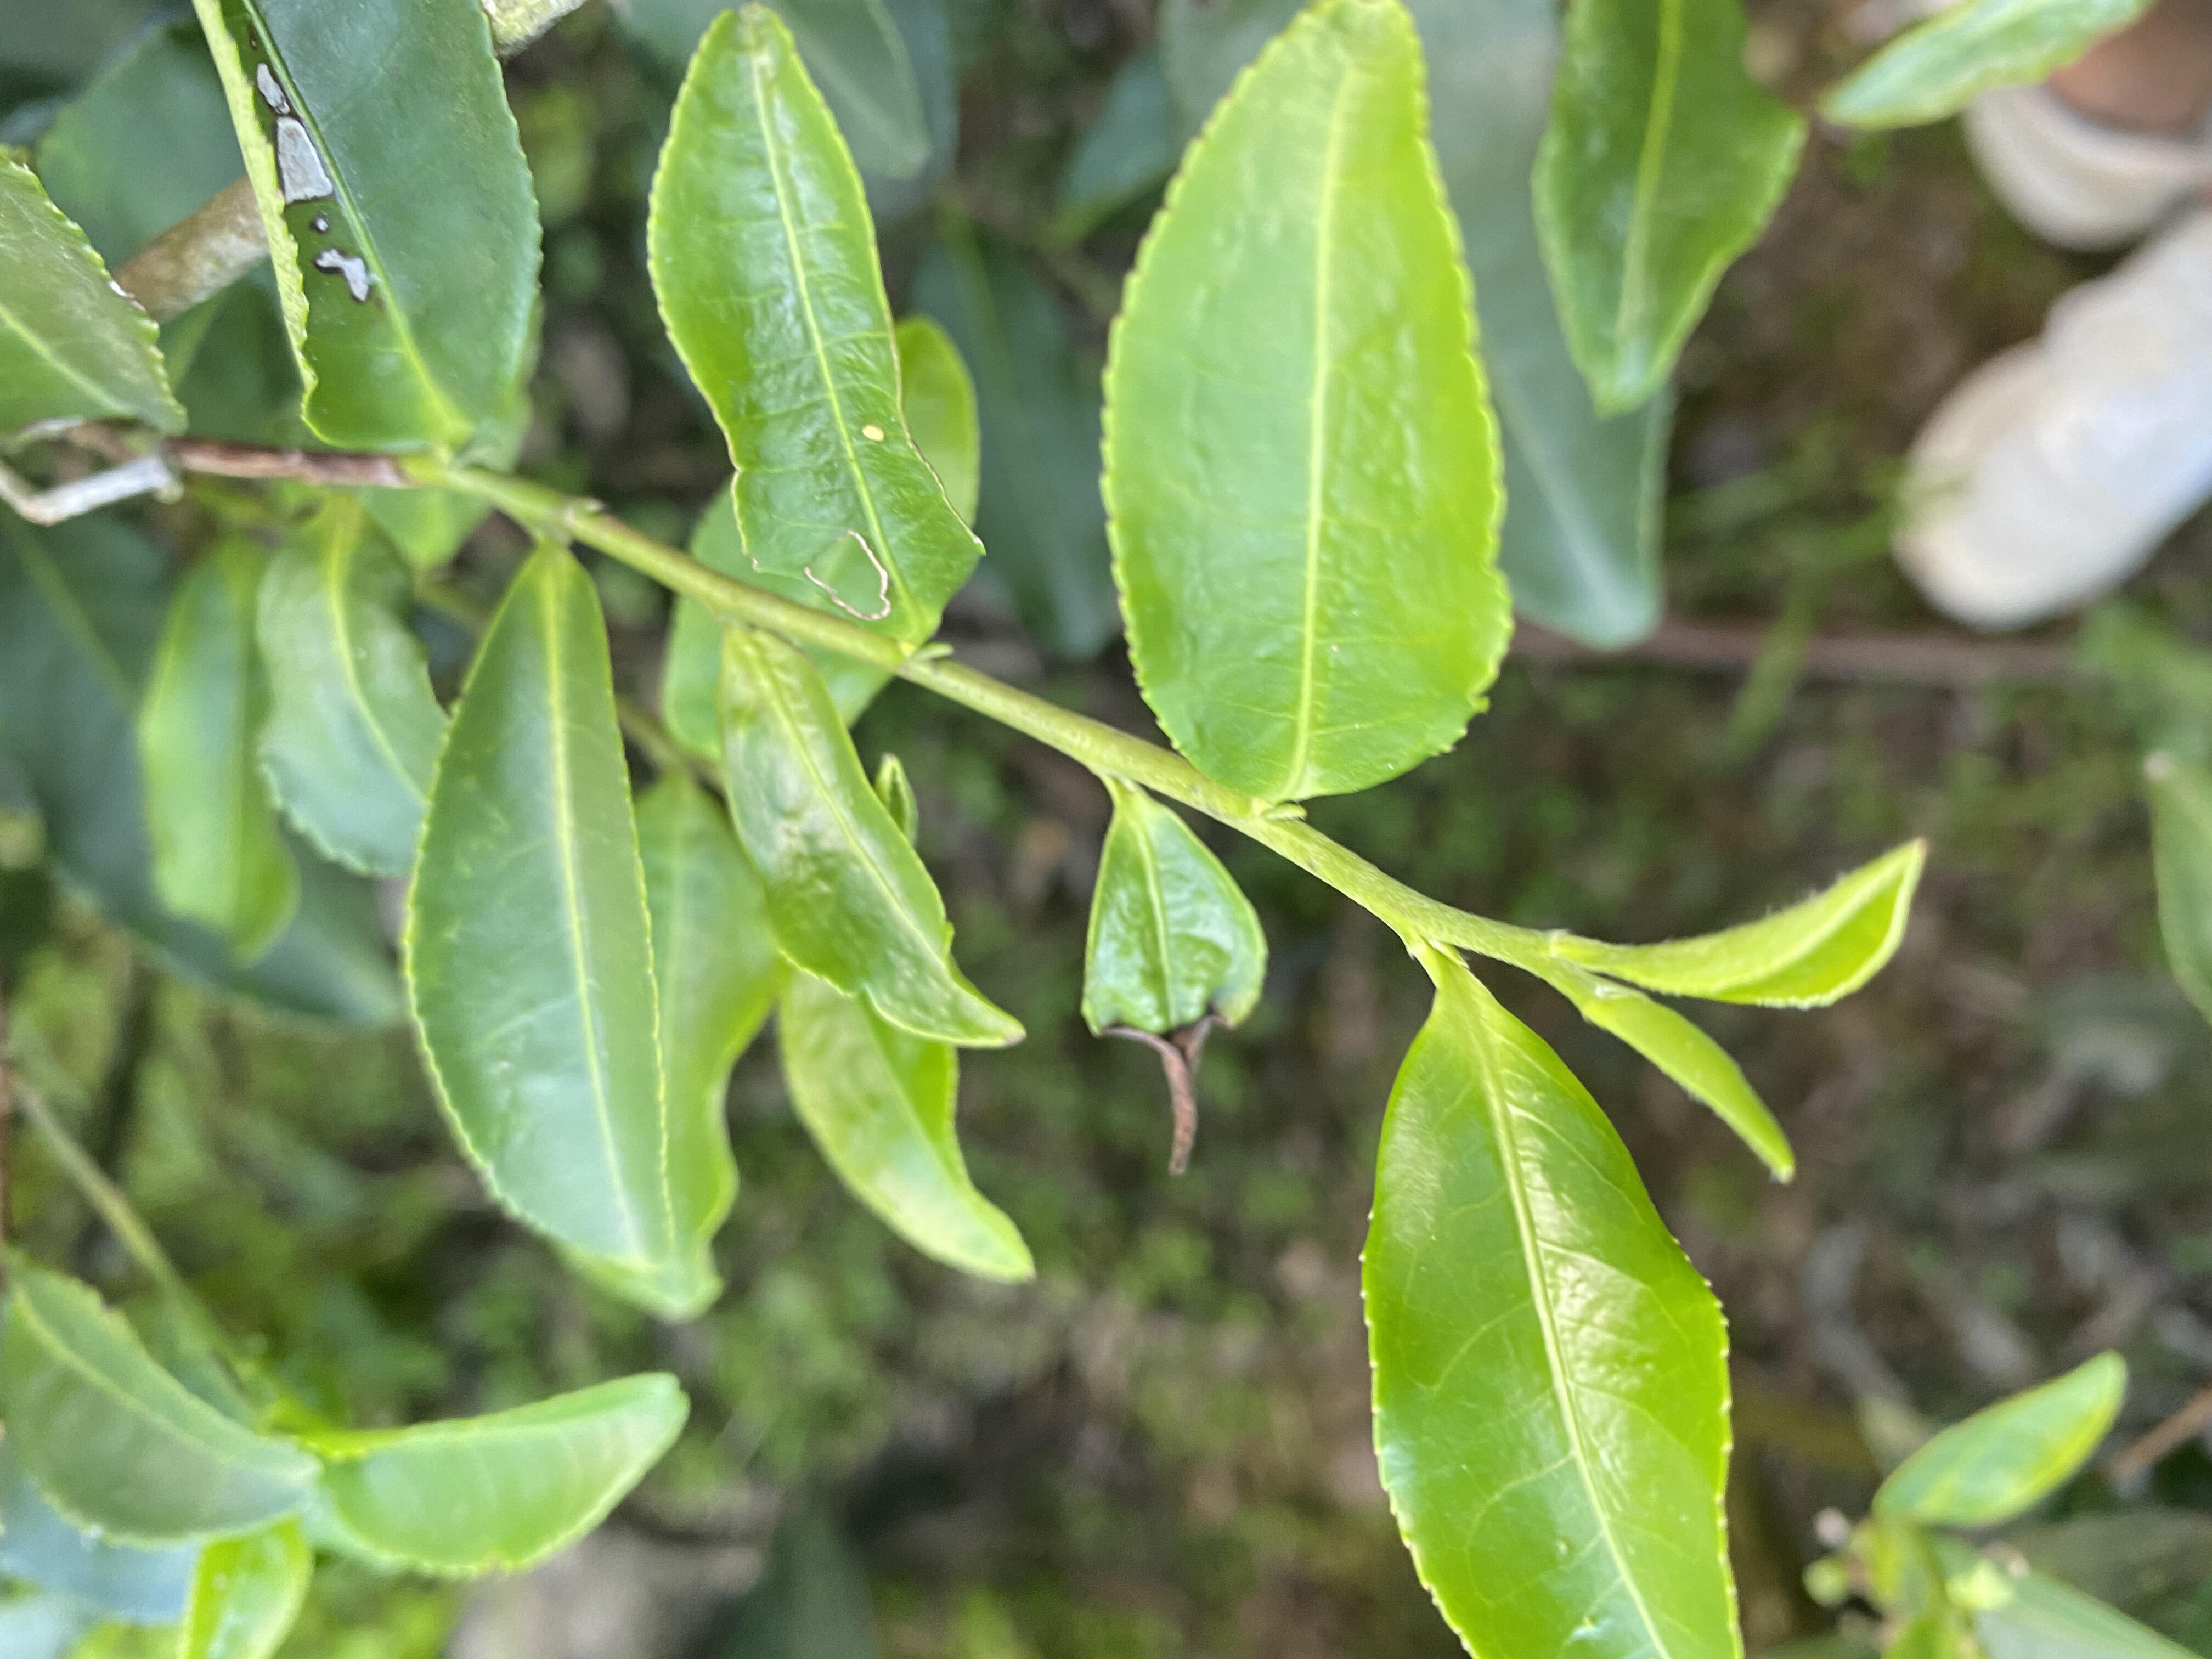chihuo_low: (639, 3, 984, 643)
healthy: (1097, 2, 1517, 803), (1359, 972, 1747, 1656), (392, 535, 681, 1272)
tanju_high: (192, 2, 549, 453), (1078, 800, 1270, 1178)
